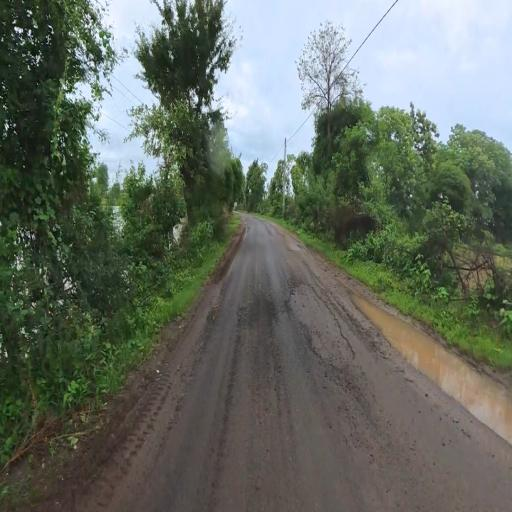ravelling: (280, 246, 376, 450)
